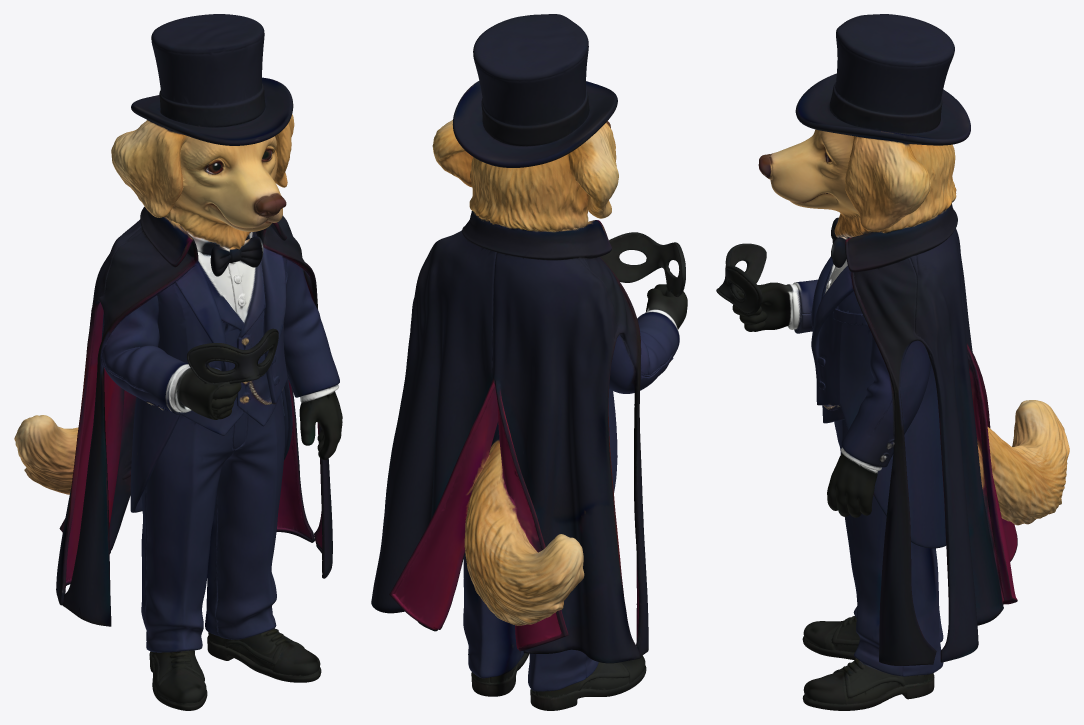
File: 歌剧狗.glb
3 renders of one model, left to right at view 1: azimuth 30°, elevation 25°; view 2: azimuth 150°, elevation 25°; view 3: azimuth 270°, elevation 25°, orthographic.
Parts seen in each view (by area): view 1: tripo_node_928a7248-b522-4b39-9a3d-6aea2189ae32; view 2: tripo_node_928a7248-b522-4b39-9a3d-6aea2189ae32; view 3: tripo_node_928a7248-b522-4b39-9a3d-6aea2189ae32.
Boxes of the visible parts, x1,y1,x2,y2 form: tripo_node_928a7248-b522-4b39-9a3d-6aea2189ae32: (14,14,342,710); tripo_node_928a7248-b522-4b39-9a3d-6aea2189ae32: (371,14,687,710); tripo_node_928a7248-b522-4b39-9a3d-6aea2189ae32: (716,14,1069,710).
Size of the model in its own units: 0.4126 by 0.9799 by 0.4856.
1 material, 1 textured.
